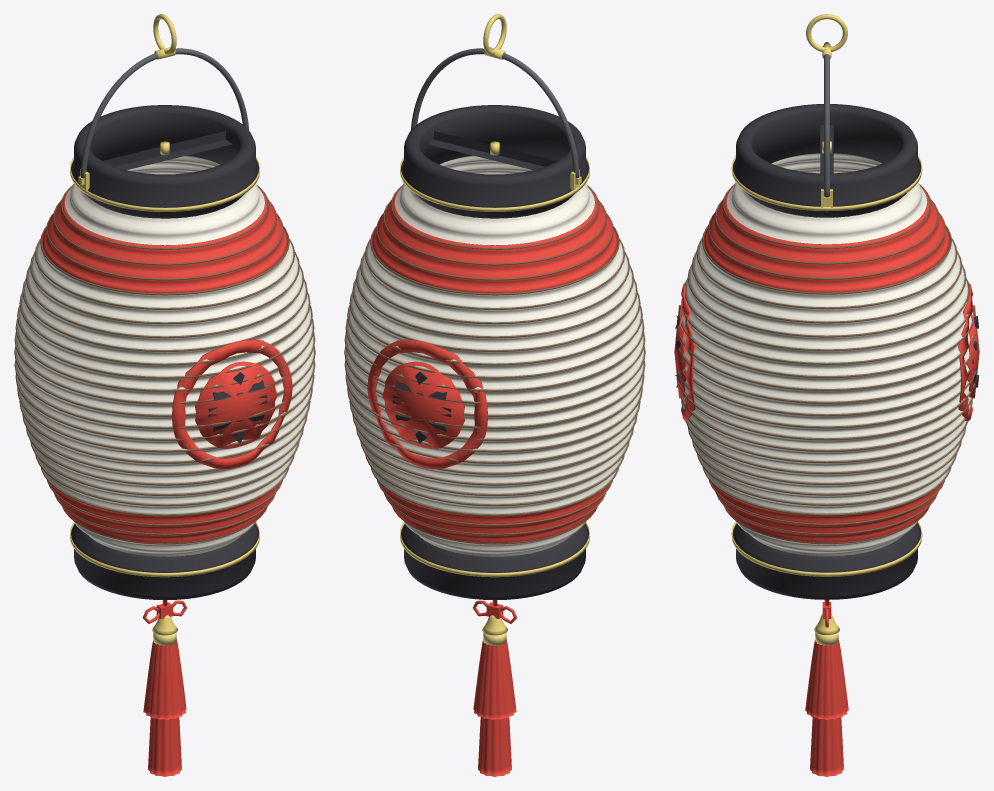
File: craft_chochin.glb
3 renders of one model, left to right at view 1: azimuth 30°, elevation 25°; view 2: azimuth 150°, elevation 25°; view 3: azimuth 270°, elevation 25°, orthographic.
Parts seen in each view (by area): view 1: Chochin_Paper_Body, Chochin_Bamboo_Ribs, Chochin_Bands_Red, Chochin_Top_Collar, Chochin_Emblem_Back_Red, Chochin_Bottom_Collar, Chochin_Tassel_Fringe, Chochin_Top_Crossbar, Chochin_Hanger_Bail, Chochin_Bottom_Brass_Trim, Chochin_Top_Brass_Trim, Chochin_Emblem_Back_Black; view 2: Chochin_Paper_Body, Chochin_Bamboo_Ribs, Chochin_Bands_Red, Chochin_Top_Collar, Chochin_Emblem_Front_Red, Chochin_Bottom_Collar, Chochin_Tassel_Fringe, Chochin_Top_Crossbar, Chochin_Hanger_Bail, Chochin_Bottom_Brass_Trim, Chochin_Top_Brass_Trim, Chochin_Emblem_Front_Black; view 3: Chochin_Paper_Body, Chochin_Bamboo_Ribs, Chochin_Bands_Red, Chochin_Top_Collar, Chochin_Bottom_Collar, Chochin_Tassel_Fringe, Chochin_Emblem_Back_Red, Chochin_Emblem_Front_Red, Chochin_Bottom_Brass_Trim, Chochin_Top_Brass_Trim, Chochin_Hanger_Bail, Chochin_Suspension_Ring.
Part boxes in pixels (bbox=[...]): Chochin_Paper_Body: bbox=[16, 155, 313, 556]; Chochin_Bamboo_Ribs: bbox=[14, 185, 315, 544]; Chochin_Bands_Red: bbox=[41, 187, 288, 544]; Chochin_Top_Collar: bbox=[71, 105, 258, 218]; Chochin_Emblem_Back_Red: bbox=[172, 339, 292, 469]; Chochin_Bottom_Collar: bbox=[71, 524, 258, 600]; Chochin_Tassel_Fringe: bbox=[143, 639, 186, 776]; Chochin_Top_Crossbar: bbox=[102, 131, 232, 170]; Chochin_Hanger_Bail: bbox=[80, 48, 249, 178]; Chochin_Bottom_Brass_Trim: bbox=[70, 522, 259, 577]; Chochin_Top_Brass_Trim: bbox=[70, 157, 259, 211]; Chochin_Emblem_Back_Black: bbox=[208, 372, 267, 443]; Chochin_Paper_Body: bbox=[346, 155, 643, 556]; Chochin_Bamboo_Ribs: bbox=[344, 185, 645, 544]; Chochin_Bands_Red: bbox=[371, 187, 618, 544]; Chochin_Top_Collar: bbox=[401, 105, 588, 218]; Chochin_Emblem_Front_Red: bbox=[367, 339, 487, 469]; Chochin_Bottom_Collar: bbox=[401, 524, 588, 600]; Chochin_Tassel_Fringe: bbox=[473, 639, 516, 776]; Chochin_Top_Crossbar: bbox=[427, 131, 557, 170]; Chochin_Hanger_Bail: bbox=[410, 48, 579, 178]; Chochin_Bottom_Brass_Trim: bbox=[400, 522, 589, 577]; Chochin_Top_Brass_Trim: bbox=[400, 157, 589, 211]; Chochin_Emblem_Front_Black: bbox=[392, 371, 451, 443]; Chochin_Paper_Body: bbox=[680, 153, 973, 556]; Chochin_Bamboo_Ribs: bbox=[676, 184, 977, 544]; Chochin_Bands_Red: bbox=[703, 186, 950, 544]; Chochin_Top_Collar: bbox=[733, 104, 920, 217]; Chochin_Bottom_Collar: bbox=[732, 523, 921, 599]; Chochin_Tassel_Fringe: bbox=[805, 640, 848, 776]; Chochin_Emblem_Back_Red: bbox=[674, 283, 695, 420]; Chochin_Emblem_Front_Red: bbox=[958, 283, 979, 420]; Chochin_Bottom_Brass_Trim: bbox=[731, 521, 922, 576]; Chochin_Top_Brass_Trim: bbox=[731, 156, 922, 211]; Chochin_Hanger_Bail: bbox=[824, 42, 829, 197]; Chochin_Suspension_Ring: bbox=[806, 14, 847, 51].
Bounding box in the file's own units: 0.7065 × 1.95 × 0.7141.
